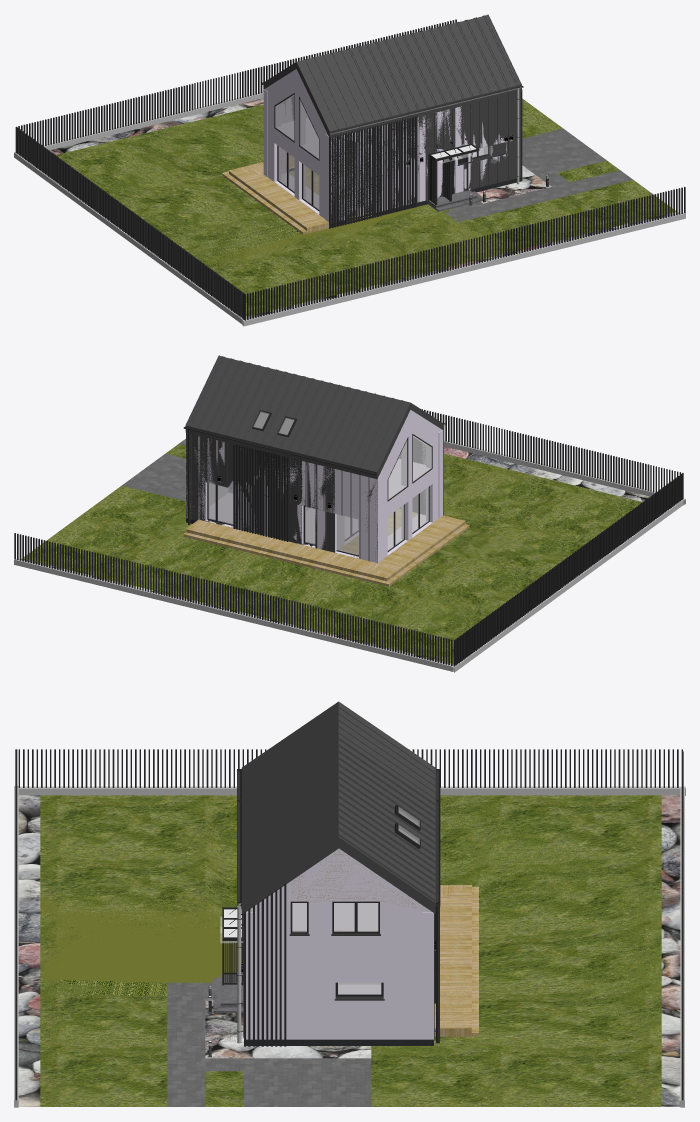
File: dom-opt.gltf
3 renders of one model, top to bottom at view 1: azimuth 30°, elevation 25°; view 2: azimuth 150°, elevation 25°; view 3: azimuth 270°, elevation 25°, orthographic. The views are drawn at different scales.
Parts seen in each view (by area): view 1: 70 trawa ogródek, Cube, 70 dach, 90 trawa ogródek, 90 dach, 90 elewacja biała, Cube.001, Cube.002, 90 elewacja blacha + deski, 70 kostka, 90 lamele, 70 elewacja blacha + deski (+9 smaller); view 2: 70 trawa ogródek, Cube.002, 90 dach, 90 elewacja biała, 70 dach, Cube.001, Cube, 90 taras, 90 elewacja blacha + deski, 70 elewacja blacha + deski, 90 okna antracyt, 90 okna biały (+13 smaller); view 3: 70 trawa ogródek, 90 trawa ogródek, 70 elewacja biała, 90 dach, 70 dach, 70 żwir, Cube.001, 70 kostka, 90 taras, 70 lamele, 70 okna antracyt, 90 elewacja biała (+12 smaller).
Boxes of the visible parts, <box> form: 70 trawa ogródek: <box>56,98,675,316</box>; Cube: <box>242,186,685,326</box>; 70 dach: <box>340,15,521,127</box>; 90 trawa ogródek: <box>108,104,574,282</box>; 90 dach: <box>263,14,521,137</box>; 90 elewacja biała: <box>263,69,492,226</box>; Cube.001: <box>14,126,244,324</box>; Cube.002: <box>18,19,456,150</box>; 90 elewacja blacha + deski: <box>284,92,520,227</box>; 70 kostka: <box>457,128,632,218</box>; 90 lamele: <box>329,91,522,228</box>; 70 elewacja blacha + deski: <box>376,93,520,215</box>; 70 trawa ogródek: <box>24,444,642,663</box>; Cube.002: <box>14,533,453,671</box>; 90 dach: <box>185,356,443,478</box>; 90 elewacja biała: <box>187,410,443,563</box>; 70 dach: <box>185,355,367,460</box>; Cube.001: <box>451,473,683,672</box>; Cube: <box>422,409,685,505</box>; 90 taras: <box>183,515,469,586</box>; 90 elewacja blacha + deski: <box>186,432,425,560</box>; 70 elewacja blacha + deski: <box>186,434,334,552</box>; 90 okna antracyt: <box>303,434,432,556</box>; 90 okna biały: <box>305,436,431,554</box>; 70 trawa ogródek: <box>40,795,661,1106</box>; 90 trawa ogródek: <box>40,795,661,1058</box>; 70 elewacja biała: <box>246,848,433,1045</box>; 90 dach: <box>241,701,435,913</box>; 70 dach: <box>241,732,435,913</box>; 70 żwir: <box>18,795,680,1106</box>; Cube.001: <box>18,749,685,795</box>; 70 kostka: <box>167,992,371,1106</box>; 90 taras: <box>434,885,478,1036</box>; 70 lamele: <box>241,883,435,1045</box>; 70 okna antracyt: <box>290,901,383,996</box>; 90 elewacja biała: <box>290,849,430,911</box>.
Bounding box in the file's own units: 24.9 × 8.07 × 22.51.
